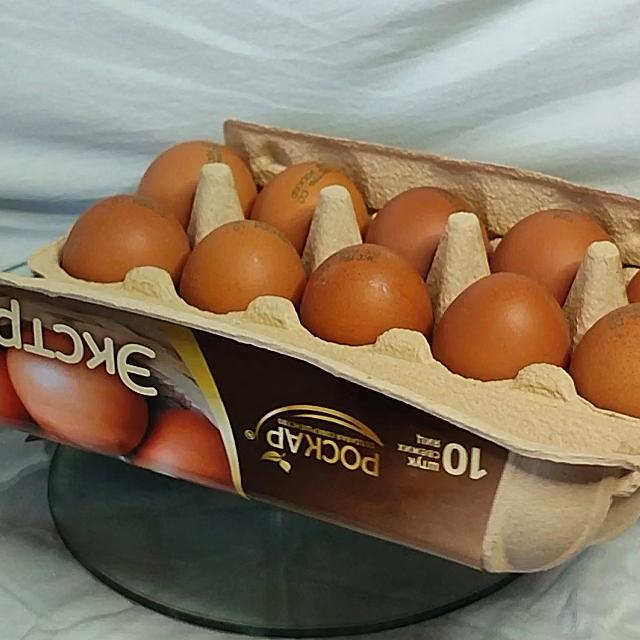egg: (0, 113, 640, 617)
